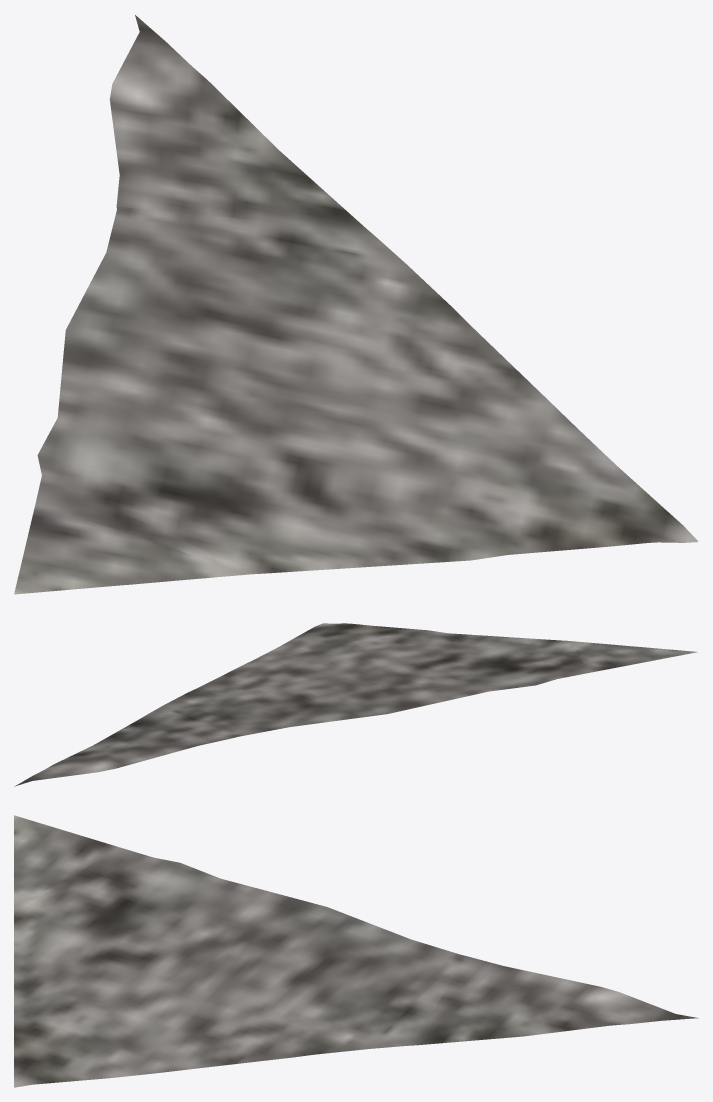
The picture shows the model from 3 angles, top to bottom: view 1: azimuth 30°, elevation 25°; view 2: azimuth 150°, elevation 25°; view 3: azimuth 270°, elevation 25°; orthographic projection. The views are drawn at different scales.
Bounding box in the file's own units: 0.2003 × 0.032 × 0.2857.
1 material, 1 textured.
